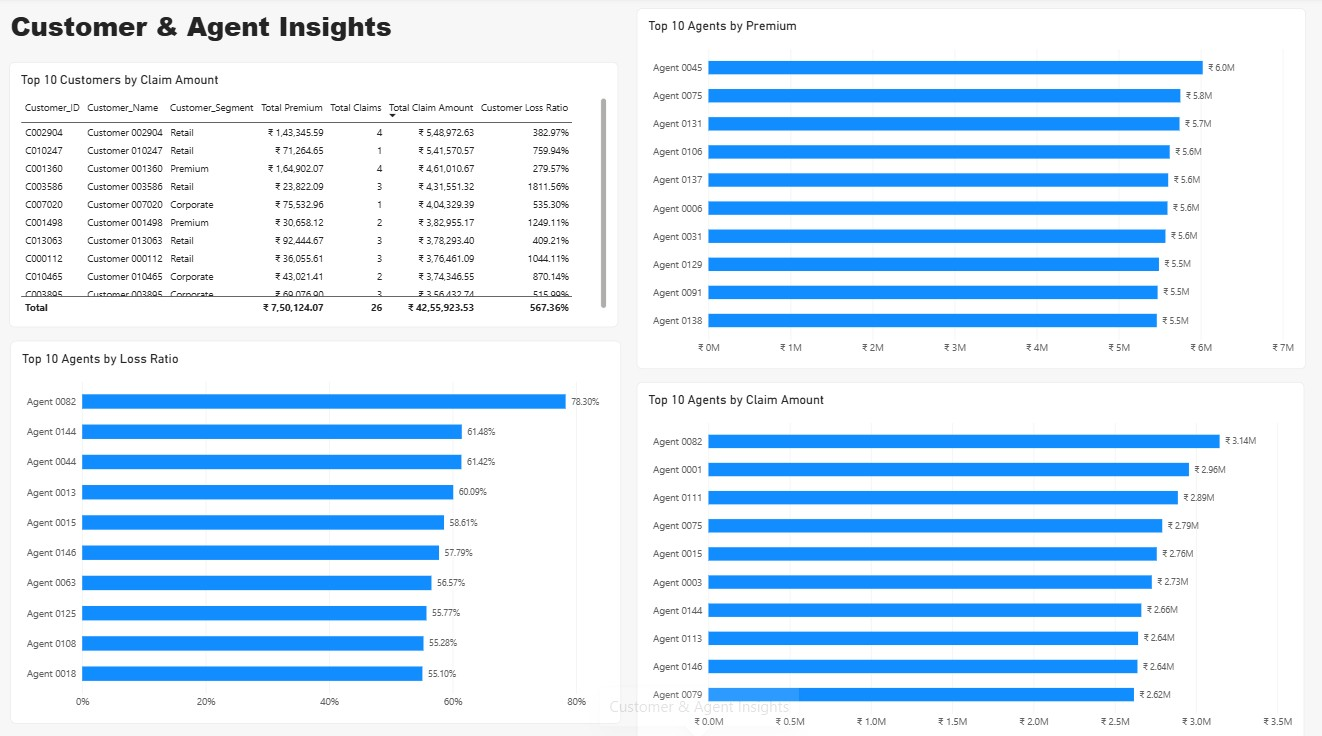

What the dashboard file says about the page in this screenshot:
{"tool":"powerbi","page":{"name":"Customer & Agent Insights","canvas":[1920,1080],"ordinal":3},"visuals":[{"type":"tableEx","title":"Top 10 Customers by Claim Amount","fields":{"Values":["Customers.Customer_ID","Customers.Customer_Name","Customers.Customer_Segment","Measures Table.Total Premium","Measures Table.Total Claims","Measures Table.Total Claim Amount","Measures Table.Customer Loss Ratio"]},"box":[16.9,94,882,383.6],"z":0},{"type":"clusteredBarChart","title":"Top 10 Agents by Premium","fields":{"Category":["Agents.Agent_Name"],"Y":["Measures Table.Total Premium"]},"box":[925.2,16.9,968.5,522.8],"z":1},{"type":"clusteredBarChart","title":"Top 10 Agents by Claim Amount","fields":{"Category":["Agents.Agent_Name"],"Y":["Measures Table.Total Claim Amount"]},"box":[925.5,557.6,966.6,523.3],"z":2},{"type":"clusteredBarChart","title":"Top 10 Agents by Loss Ratio","fields":{"Category":["Agents.Agent_Name"],"Y":["Measures Table.Agent Loss Ratio"]},"box":[18.8,498.3,883.8,554.8],"z":3},{"type":"textbox","box":[18.8,16.9,880.1,77.1],"z":4}]}

Visuals, with their boxes in screenshot pixels (x1, y1, x2, y2), scaled from the page's 1920x1080 canvas onto the 1322x736 screenshot:
"Top 10 Customers by Claim Amount" tableEx: <bbox>12, 64, 619, 325</bbox>
"Top 10 Agents by Premium" clusteredBarChart: <bbox>637, 12, 1304, 368</bbox>
"Top 10 Agents by Claim Amount" clusteredBarChart: <bbox>637, 380, 1303, 735</bbox>
"Top 10 Agents by Loss Ratio" clusteredBarChart: <bbox>13, 340, 621, 718</bbox>
textbox: <bbox>13, 12, 619, 64</bbox>
